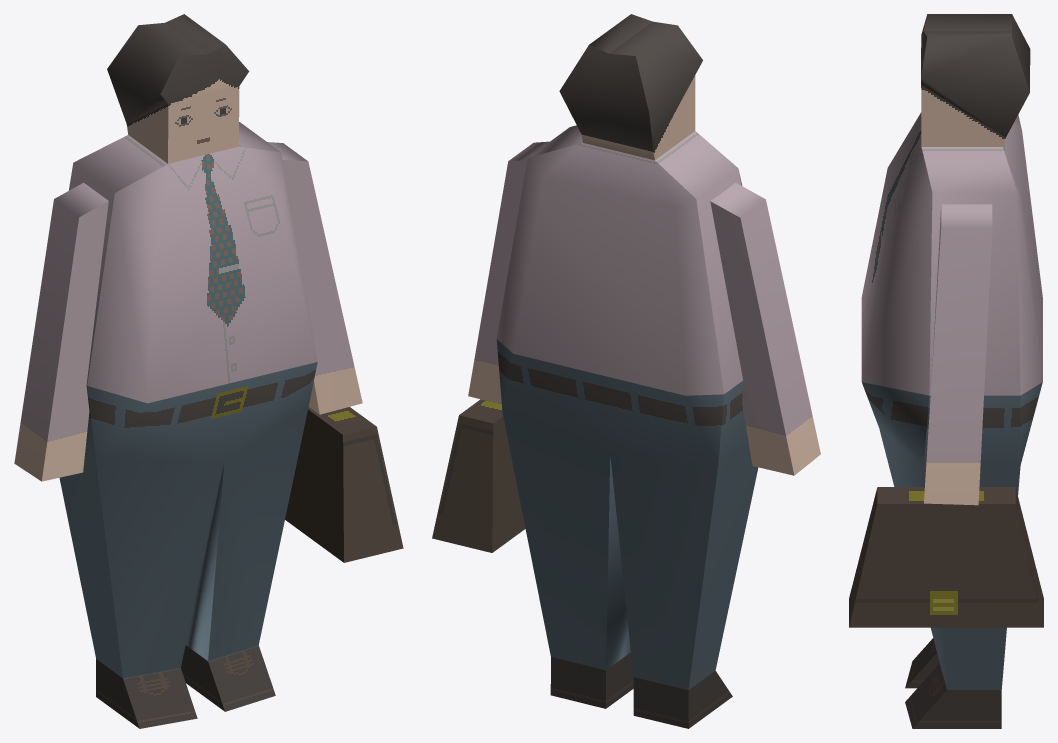
Rendered from 057e_Fat_Businessman.glb.
3 renders of one model, left to right at view 1: azimuth 30°, elevation 25°; view 2: azimuth 150°, elevation 25°; view 3: azimuth 270°, elevation 25°, orthographic. The views are drawn at different scales.
Parts seen in each view (by area): view 1: part_0; view 2: part_0; view 3: part_0.
Part boxes in pixels (x1,y1,x2,y2): part_0: [14, 14, 403, 728]; part_0: [432, 14, 820, 728]; part_0: [849, 14, 1043, 728].
Size of the model in its own units: 0.8929 by 1.72 by 0.4523.
1 material, 1 textured.
